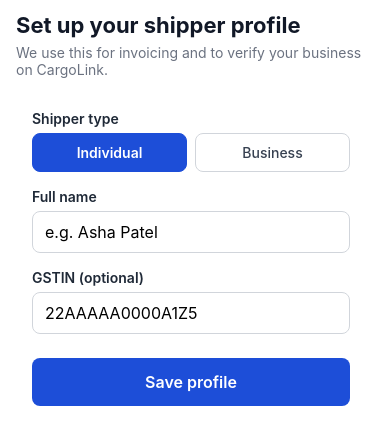
ShipperProfileScreen - mandatory first-time flow › surfaces an error and does not clear isNewUser when the save fails
Type "Asha Patel" into the field with test id "shipper-name-input" at (191,232), box [32,211,350,253]
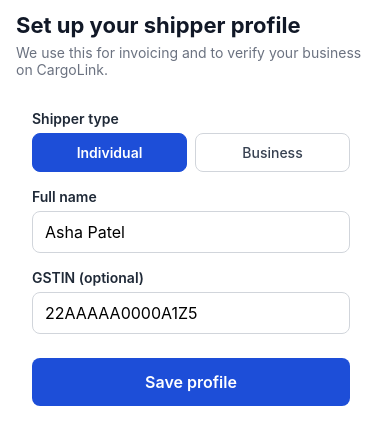
Click the element with test id "profile-submit-button" at (191,382), box [32,358,350,406]
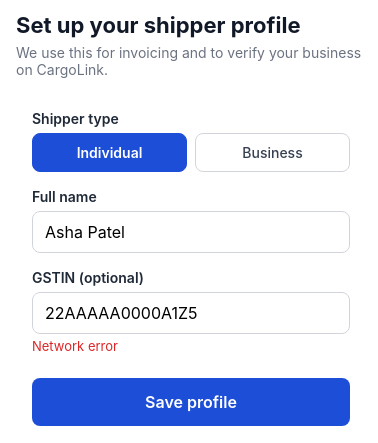
Result: the text "Network error" is shown at [32,338,118,354]
